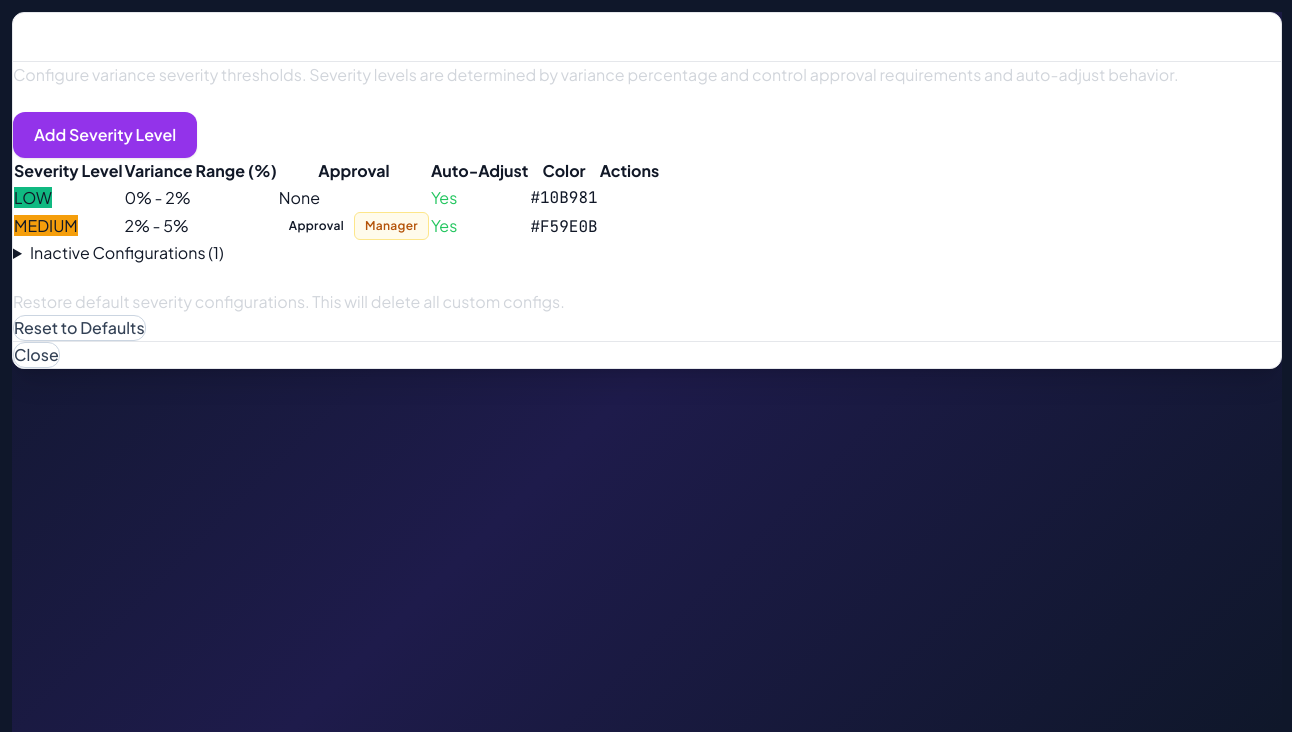
SeverityConfigModal Component › Inactive Configurations › shows Activate button for inactive configs
Expand inactive configs
What coordinates should you click on to do the following:
click the heading "Inactive Configurations (1)"
I would click on:
 (127, 252)
Its box is [30,242,224,263].
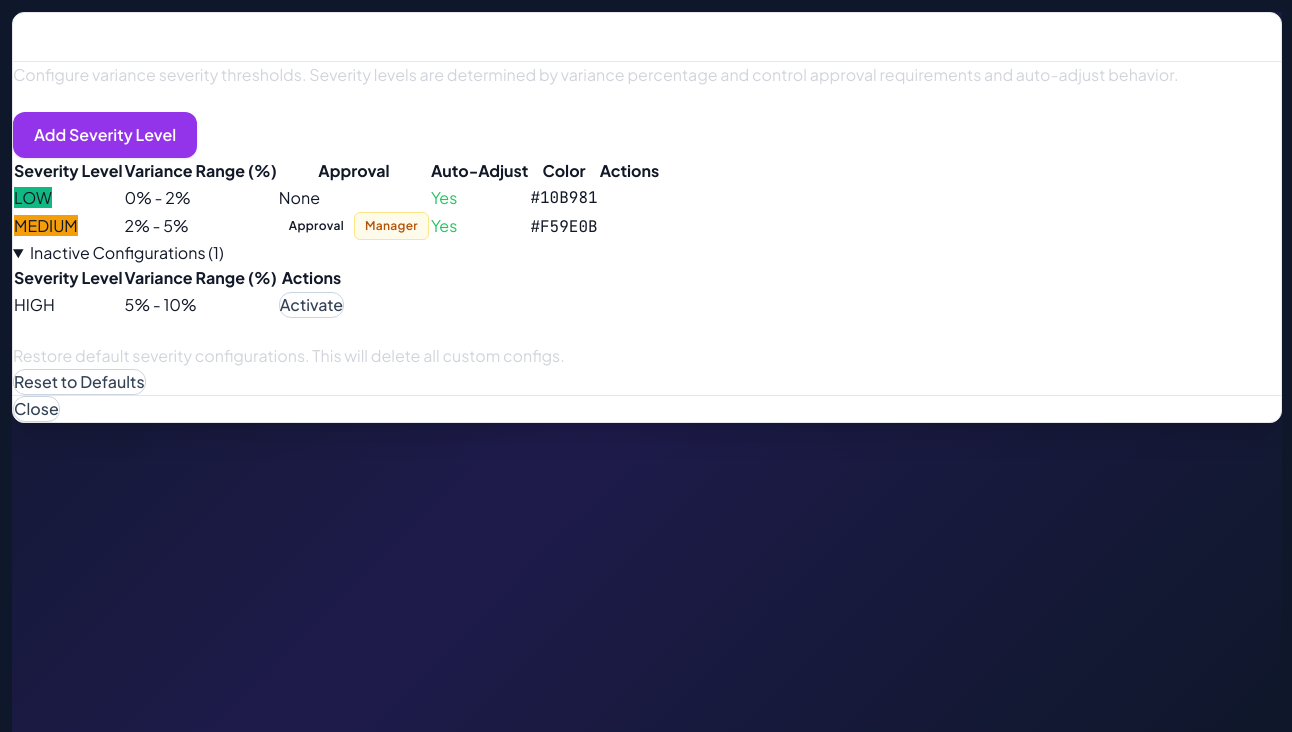
Result: the button "Activate" is shown at [279,292,344,318]
